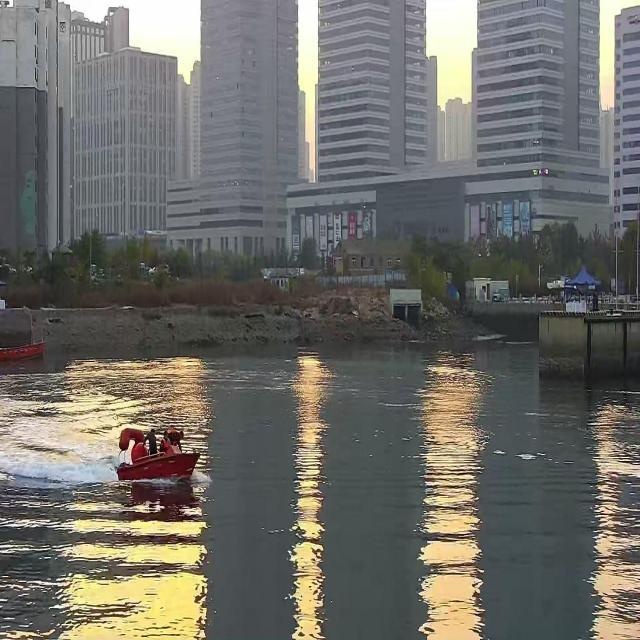CIV_Ship: (118, 423, 204, 487)
